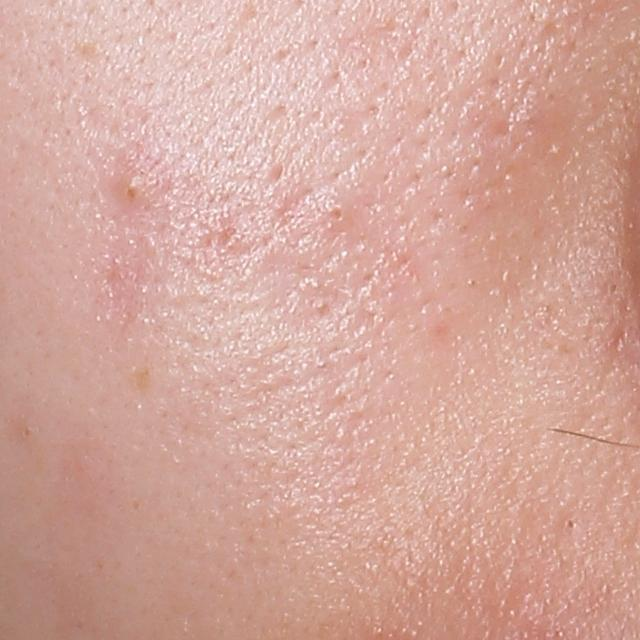comedo: (119, 173, 153, 205), (323, 200, 352, 228), (561, 517, 577, 533), (20, 426, 36, 439)
